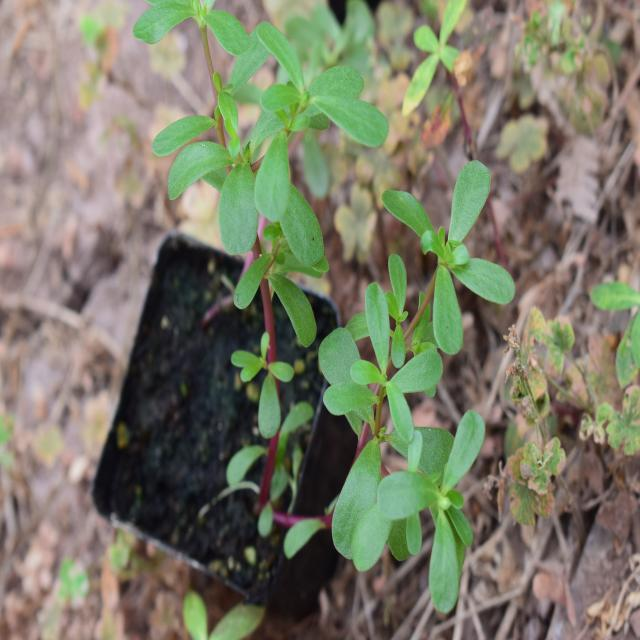purslane: (135, 3, 485, 599)
